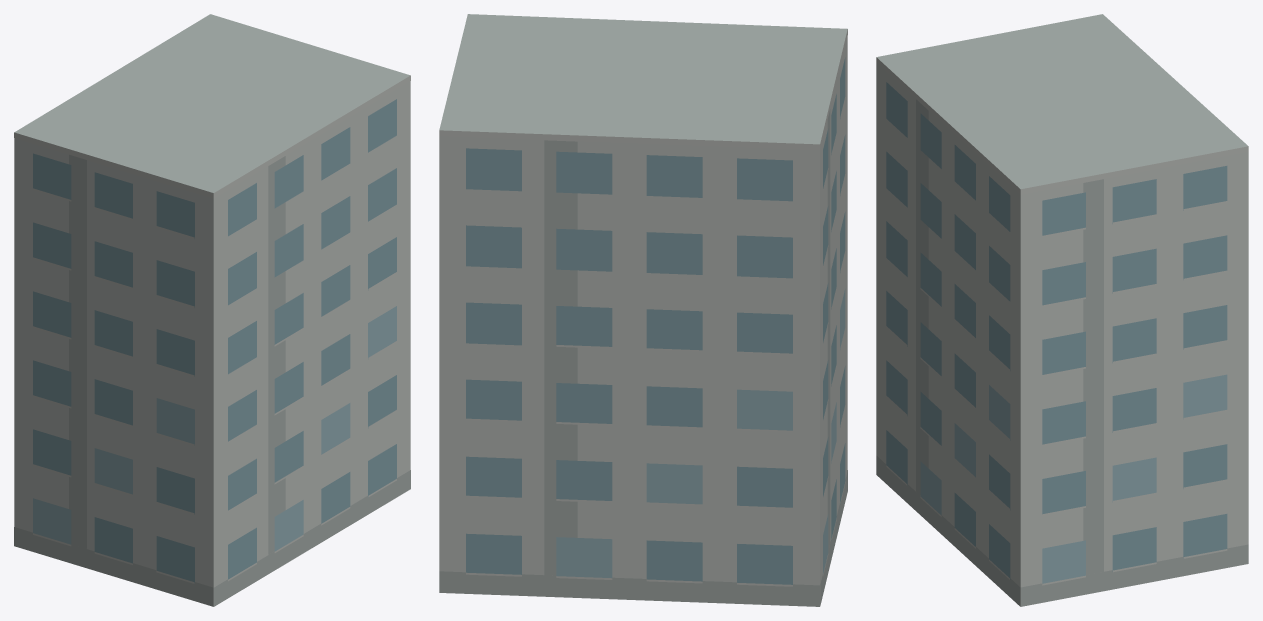
File: survey-upis-32702124.glb
3 views of the same model, side by side, from view 1: azimuth 30°, elevation 25°; view 2: azimuth 150°, elevation 25°; view 3: azimuth 270°, elevation 25° (orthographic). The views are drawn at different scales.
Visible parts, largest first — view 1: survey-upis-32702124.tmp; view 2: survey-upis-32702124.tmp; view 3: survey-upis-32702124.tmp.
Boxes of the visible parts, x1,y1,x2,y2 form: survey-upis-32702124.tmp: (14,14,410,606); survey-upis-32702124.tmp: (439,14,847,606); survey-upis-32702124.tmp: (876,14,1248,606).
Bounding box in the file's own units: 16.48 × 18.3 × 14.8.
